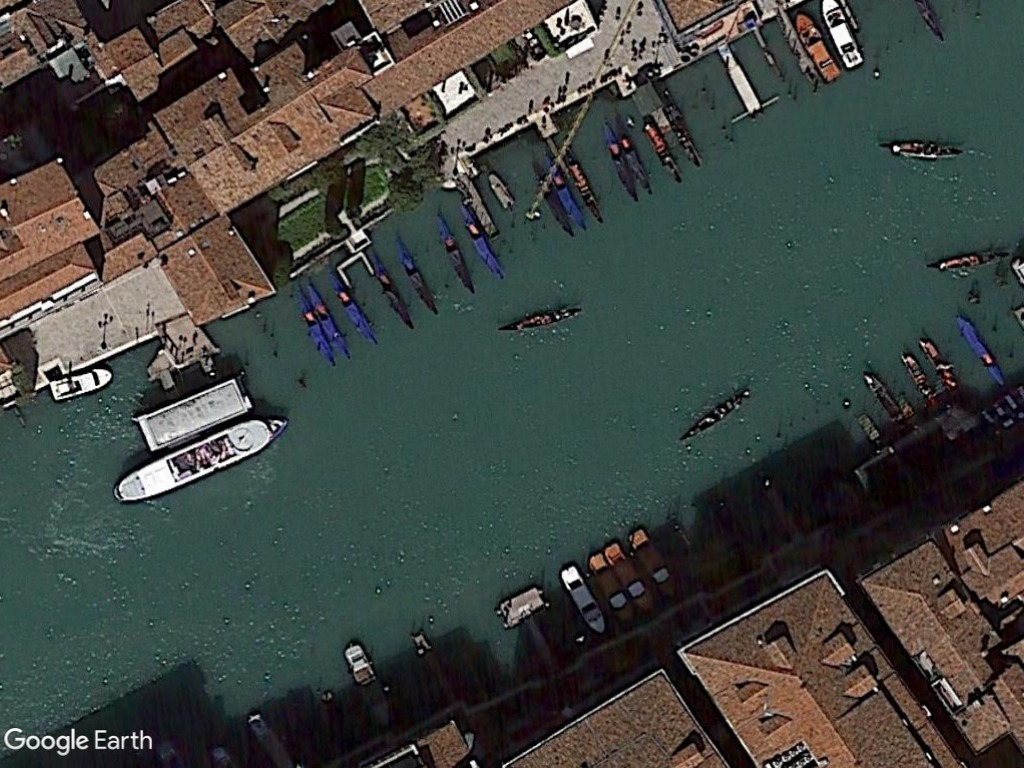boat: (110, 410, 295, 510), (624, 526, 685, 604), (555, 563, 608, 638), (793, 8, 843, 85), (817, 0, 866, 71), (44, 362, 117, 406)
